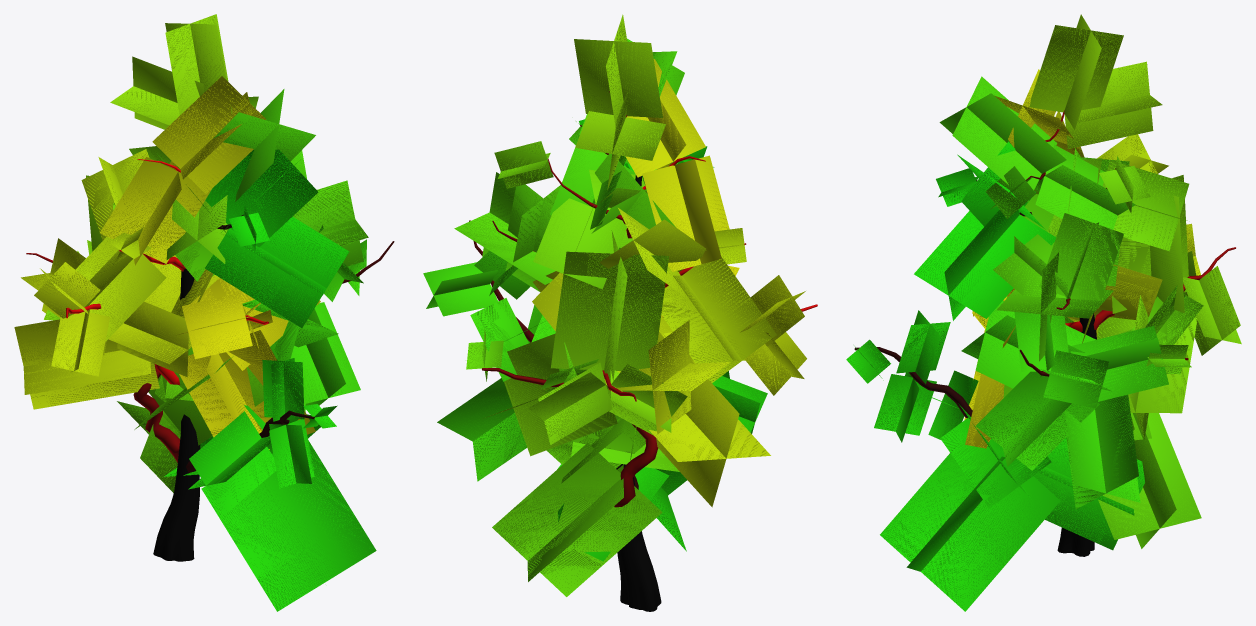
The model's file is Type_1_Tree_4.fbx.
The picture shows the model from 3 angles, left to right: view 1: azimuth 30°, elevation 25°; view 2: azimuth 150°, elevation 25°; view 3: azimuth 270°, elevation 25°; orthographic projection. The views are drawn at different scales.
Visible parts, largest first — view 1: Leaf, Trunk; view 2: Leaf, Trunk; view 3: Leaf, Trunk.
Part boxes in pixels (x1,y1,x2,y2): Leaf: (14,14,376,611); Trunk: (26,159,394,561); Leaf: (423,14,806,596); Trunk: (469,91,817,611); Leaf: (846,14,1241,611); Trunk: (854,110,1235,556).
Size of the model in its own units: 2353 by 3576 by 2315.
